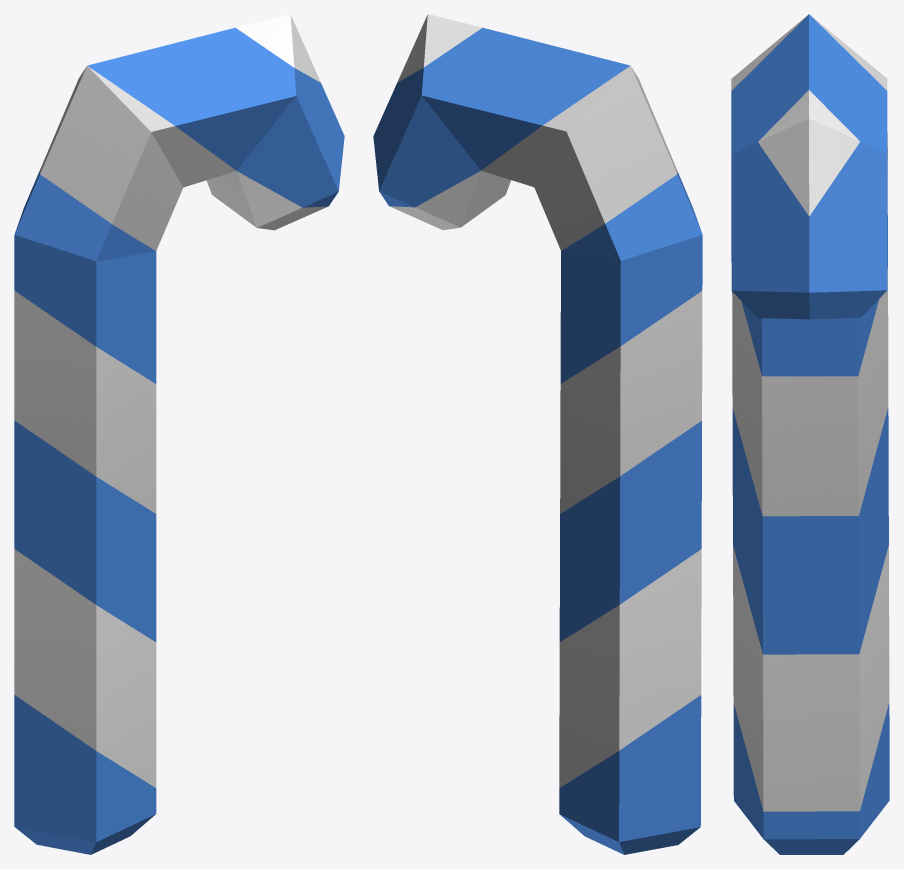
The picture shows the model from 3 angles, left to right: view 1: azimuth 30°, elevation 25°; view 2: azimuth 150°, elevation 25°; view 3: azimuth 270°, elevation 25°; orthographic projection. The views are drawn at different scales.
Visible parts, largest first — view 1: smMAT0110031; view 2: smMAT0110031; view 3: smMAT0110031.
Boxes of the visible parts, box(x1,y1,x2,y2) form: smMAT0110031: box(14, 14, 344, 854); smMAT0110031: box(373, 14, 702, 854); smMAT0110031: box(731, 14, 889, 854).
Bounding box in the file's own units: 32.03 × 71.41 × 12.4.
Materials: 1 (1 with a texture image).
